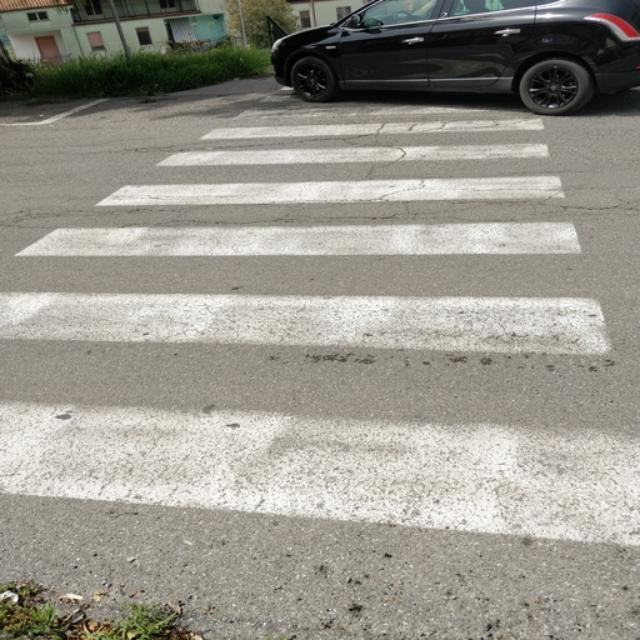sidewalk: (5, 120, 636, 559)
